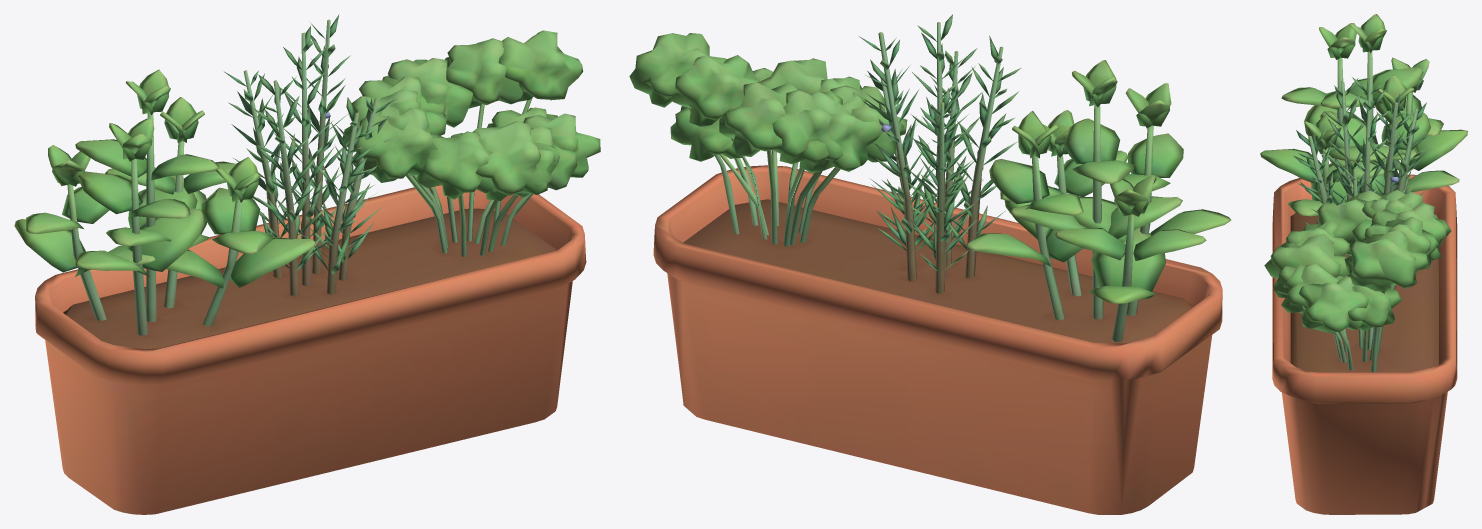
File: herbs.glb
3 renders of one model, left to right at view 1: azimuth 30°, elevation 25°; view 2: azimuth 150°, elevation 25°; view 3: azimuth 270°, elevation 25°, orthographic. The views are drawn at different scales.
Visible parts, largest first — view 1: herb-pot_body; view 2: herb-pot_body; view 3: herb-pot_body.
Boxes of the visible parts, x1,y1,x2,y2 form: herb-pot_body: [14, 14, 600, 514]; herb-pot_body: [629, 14, 1231, 514]; herb-pot_body: [1260, 14, 1467, 514].
Bounding box in the file's own units: 0.3412 × 0.242 × 0.1326.
Materials: 1 (1 with a texture image).
